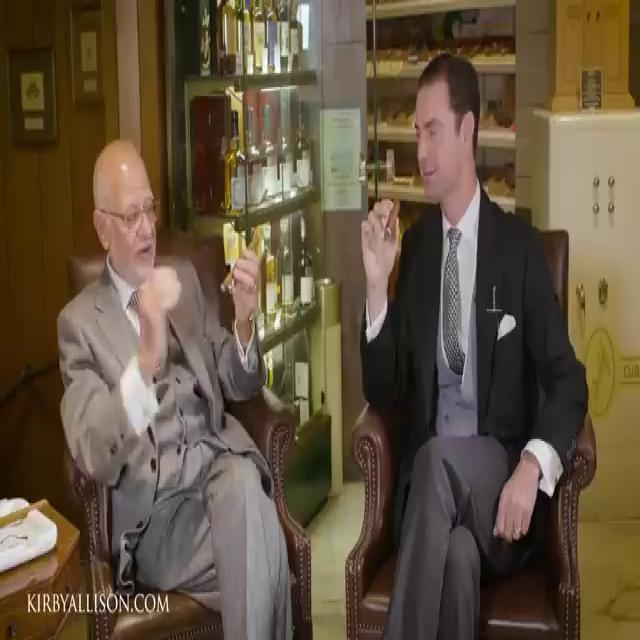Smooking: (382, 188, 407, 248)
